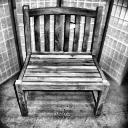chair_success: (7, 0, 112, 120)
